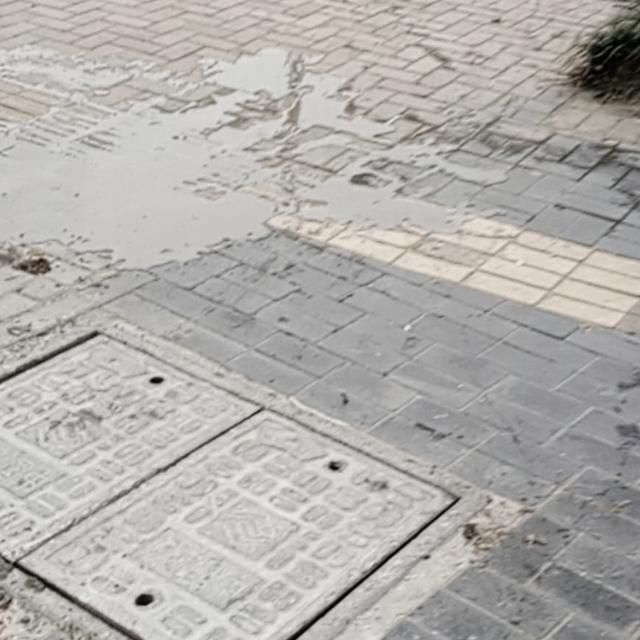good: (0, 306, 492, 640)
